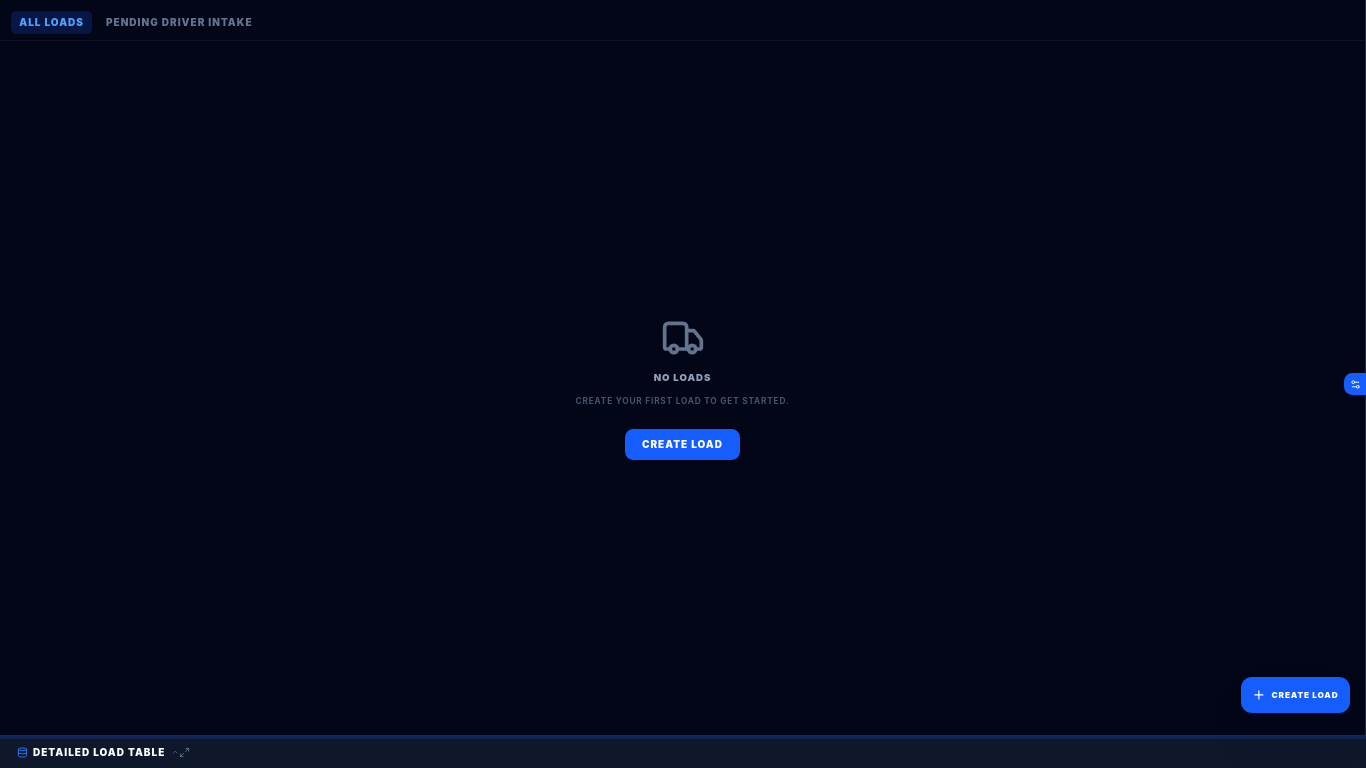
it: LoadBoardEnhanced: EmptyState for empty loads (R-P3-12) › CTA button opens internal setup modal when clicked
The image size is (1366, 768).
Click the button "Create Load" below "Create your first load to get started." at (682,444), box [625, 428, 740, 460]
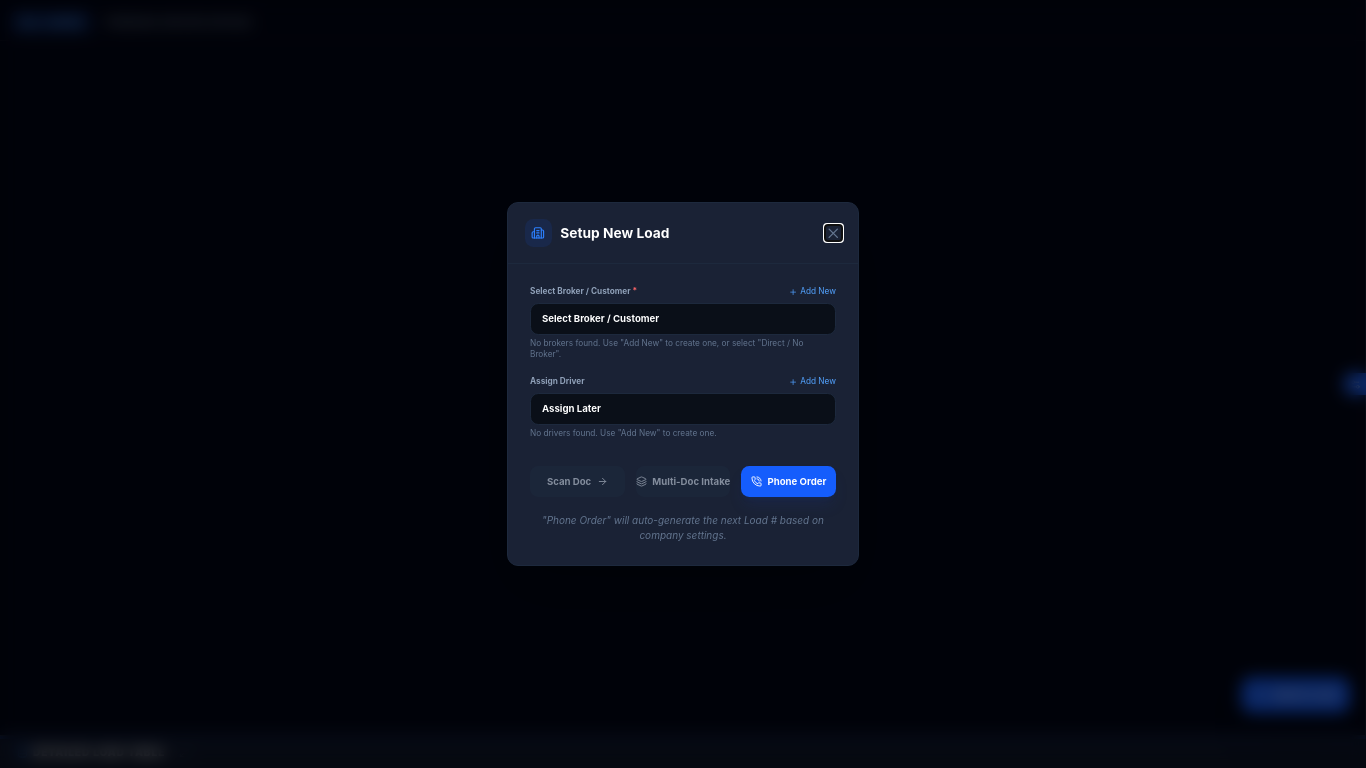
Now the heading "Setup New Load" is shown, box [560, 224, 669, 243]
